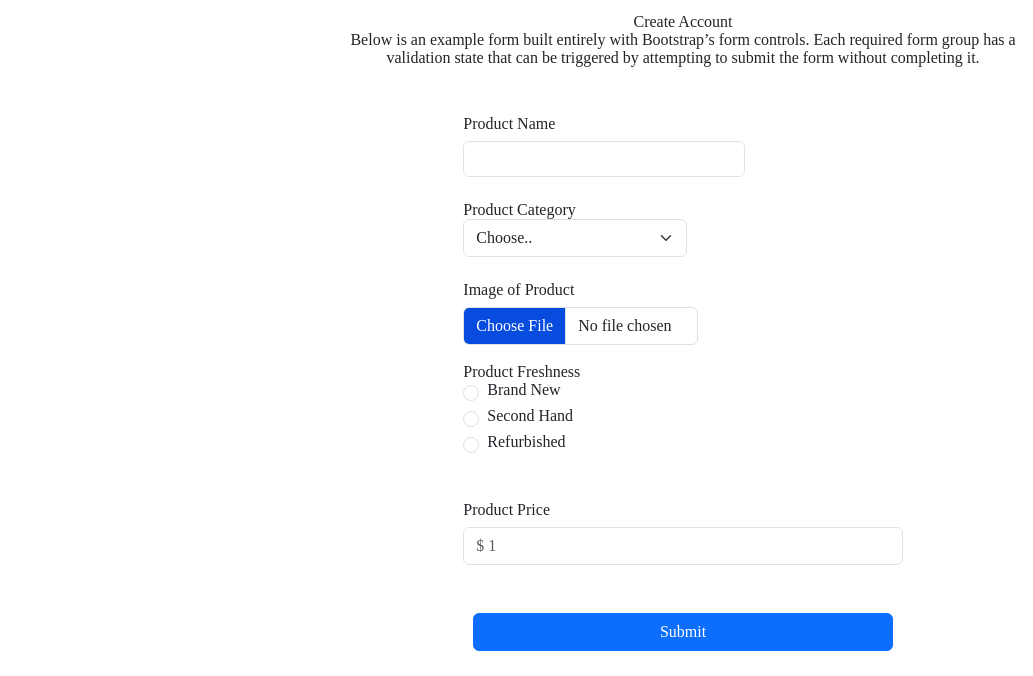
Test: should show error message when Product Name is empty
Click the button "Submit" at (683,632), box [473,613,893,651]
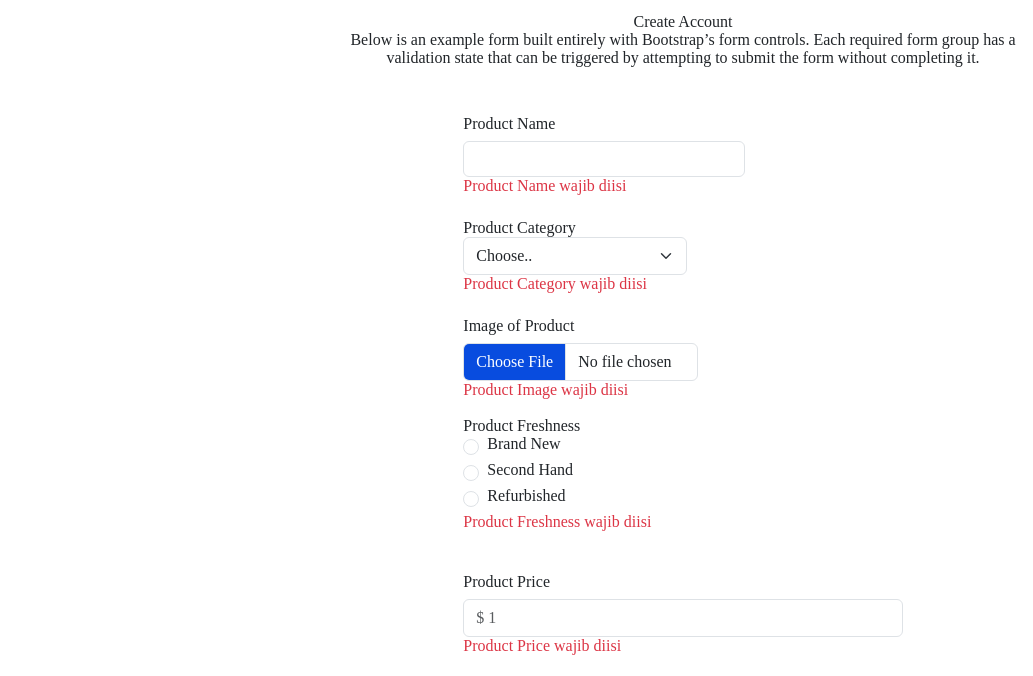
Result: the text "Product Name wajib diisi" is shown at [463,177,626,194]
